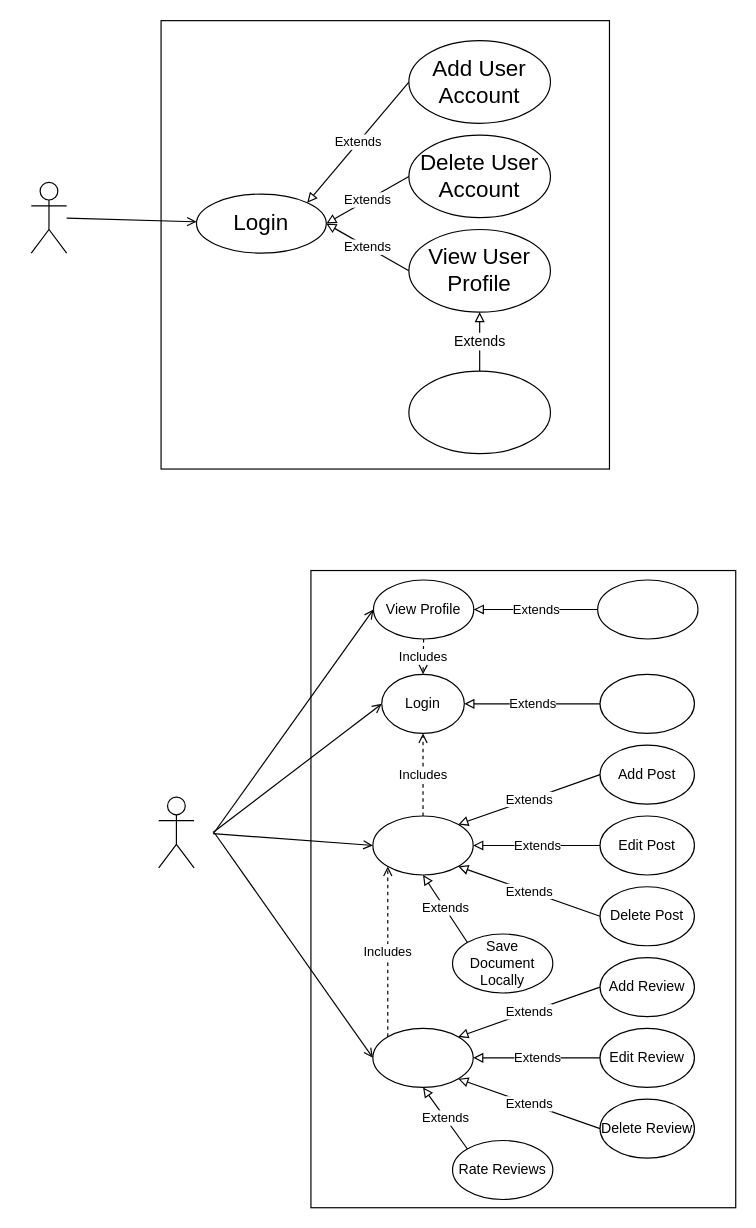
Some shapes in this 756 by 1228 pixel diagram are drawn without their labels. The shapes that lost their labels are listed below. From the top down, each one's centre as x and y in pixels, then its label:
(48,217): Admin
(479,412): Edit User Profile
(647,609): Edit Profile
(646,703): Register
(176,832): User
(422,845): Manage Posts
(422,1057): Manage Reviews
